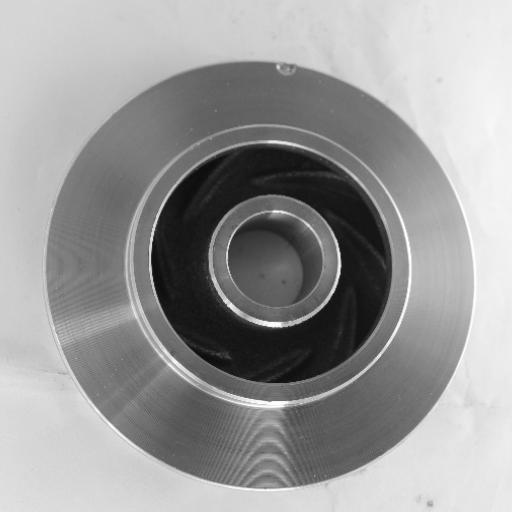crack: (268, 55, 310, 84)
unpolished_casting: (40, 59, 472, 492)
